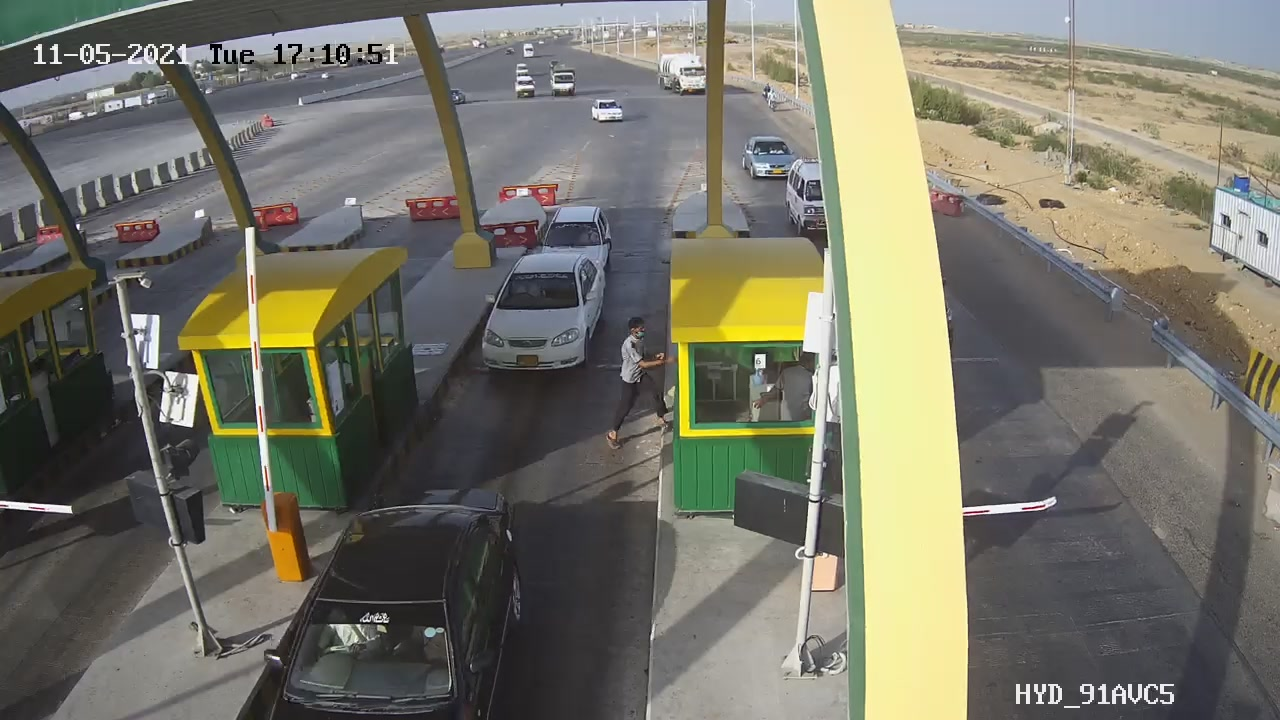F1: (473, 244, 613, 383)
